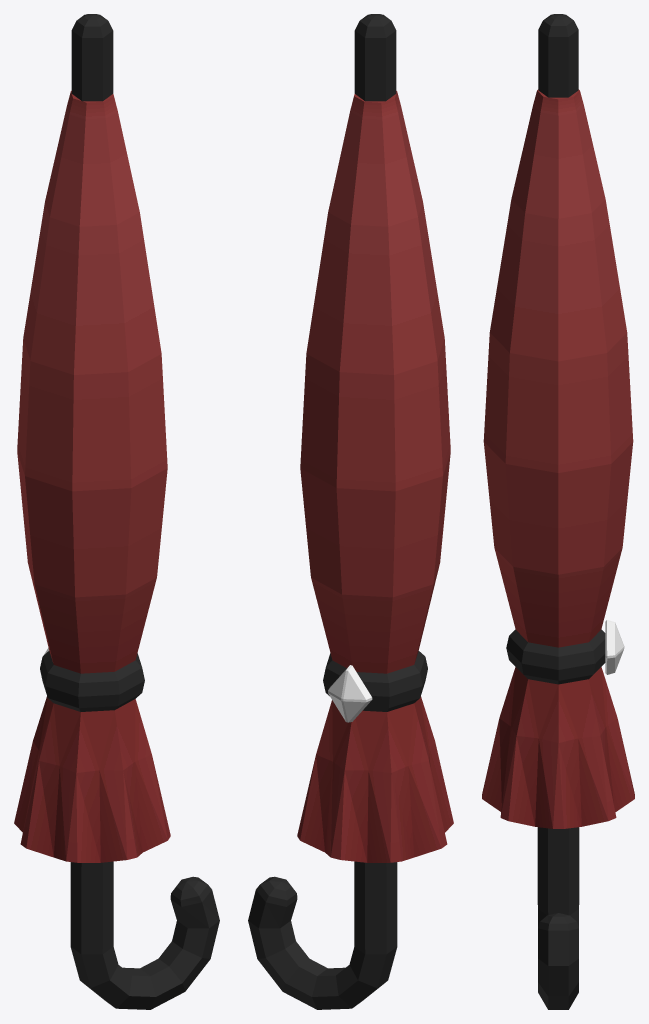
The model's file is CharSkyKid_Prop_AP24Umbrella.glb.
3 views of the same model, side by side, from view 1: azimuth 30°, elevation 25°; view 2: azimuth 150°, elevation 25°; view 3: azimuth 270°, elevation 25° (orthographic). The views are drawn at different scales.
Visible parts, largest first — view 1: CharSkyKid_Prop_AP24Umbrella; view 2: CharSkyKid_Prop_AP24Umbrella; view 3: CharSkyKid_Prop_AP24Umbrella.
Boxes of the visible parts, box(x1,y1,x2,y2) form: CharSkyKid_Prop_AP24Umbrella: box(14, 14, 219, 1009); CharSkyKid_Prop_AP24Umbrella: box(248, 14, 453, 1009); CharSkyKid_Prop_AP24Umbrella: box(482, 14, 634, 1009).
Bounding box in the file's own units: 2.01 × 10.05 × 1.45.
1 material, 1 textured.
